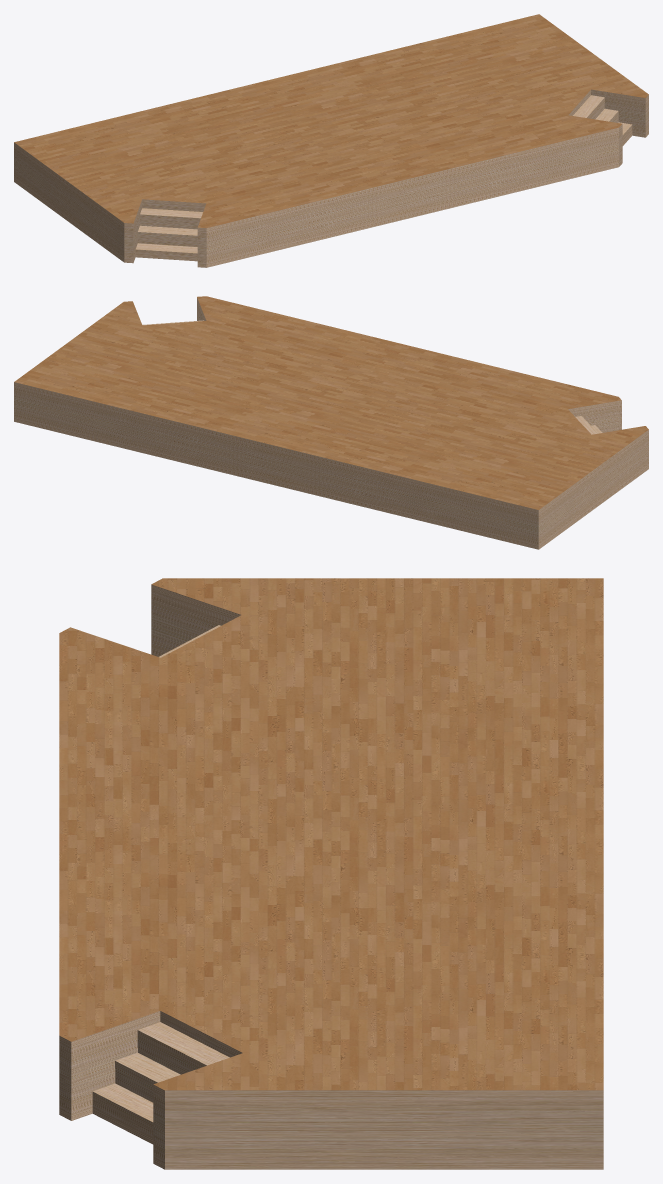
The model's file is Wooden stage.fbx.
3 renders of one model, top to bottom at view 1: azimuth 30°, elevation 25°; view 2: azimuth 150°, elevation 25°; view 3: azimuth 270°, elevation 25°, orthographic. The views are drawn at different scales.
Visible parts, largest first — view 1: wooden stage; view 2: wooden stage; view 3: wooden stage.
Boxes of the visible parts, <box> form: wooden stage: <box>14,14,648,267</box>; wooden stage: <box>14,296,648,549</box>; wooden stage: <box>59,578,603,1169</box>.
Bounding box in the file's own units: 867 × 62.53 × 389.
2 materials, 2 textured.
